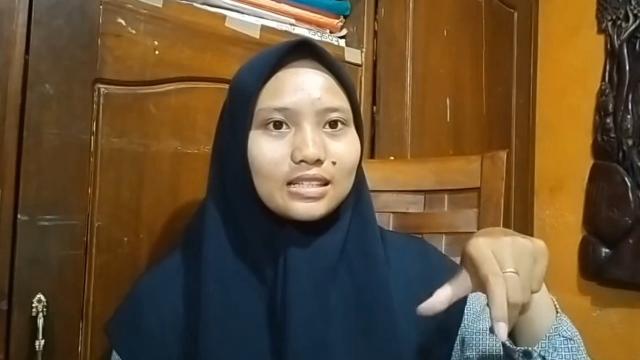Q: (415, 221, 553, 344)
